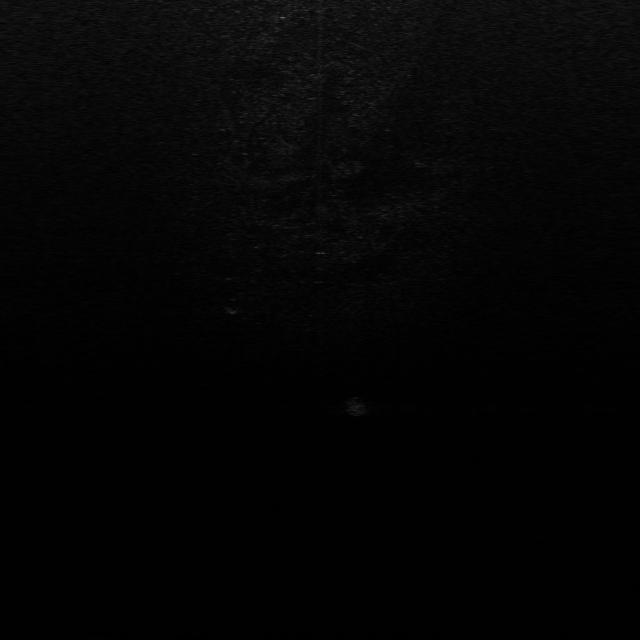ball: (342, 396, 371, 417)
circle cage: (222, 297, 246, 316)
